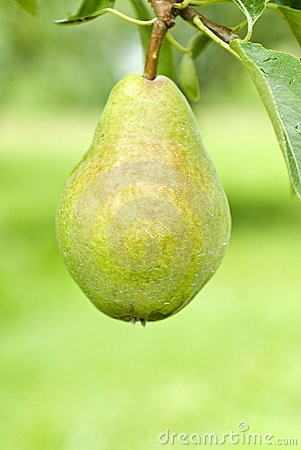pear: (57, 73, 232, 321)
